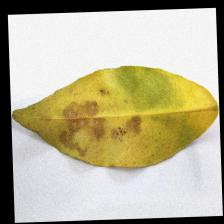black spot: (49, 90, 153, 160)
